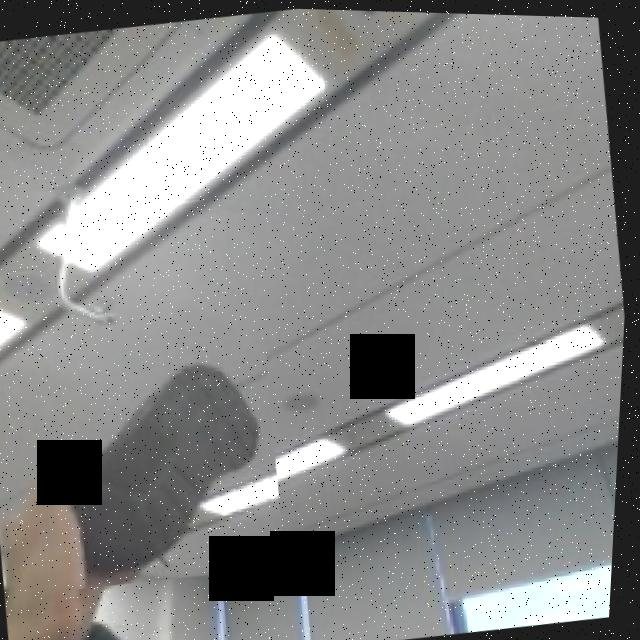shoe: (16, 311, 302, 598)
